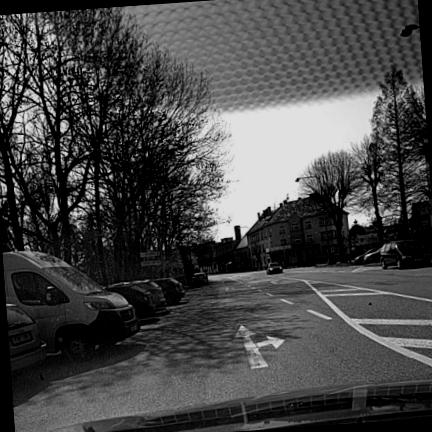Road: (11, 266, 431, 431)
